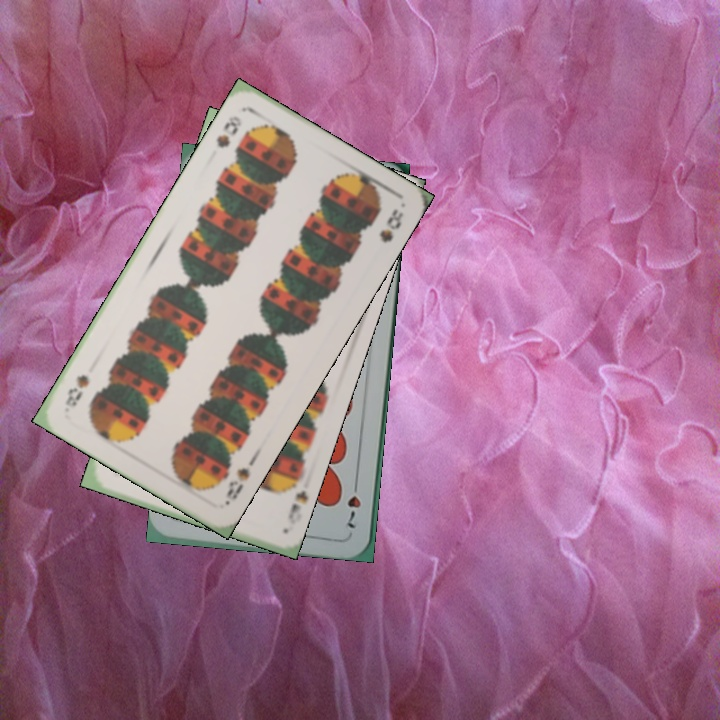H7: (343, 475, 363, 531)
S8: (220, 463, 253, 508), (212, 111, 245, 151)
S9: (281, 471, 310, 527)
